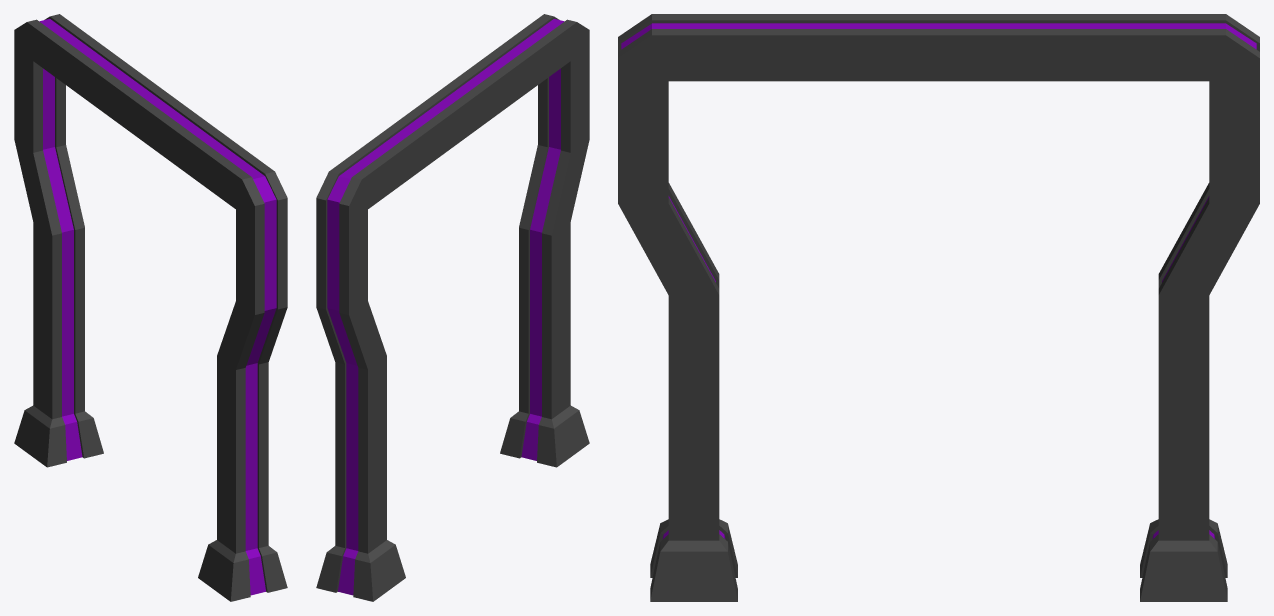
Rendered from KF_Arch.fbx.
3 views of the same model, side by side, from view 1: azimuth 30°, elevation 25°; view 2: azimuth 150°, elevation 25°; view 3: azimuth 270°, elevation 25° (orthographic). The views are drawn at different scales.
Parts seen in each view (by area): view 1: KF_Arch; view 2: KF_Arch; view 3: KF_Arch.
Part boxes in pixels (x1,y1,x2,y2): KF_Arch: (14, 14, 287, 601); KF_Arch: (316, 14, 589, 601); KF_Arch: (618, 14, 1259, 601).
Size of the model in its own units: 260 by 1825 by 1900.
